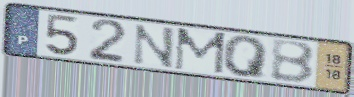2: (88, 17, 129, 65)
5: (45, 12, 79, 57)
B: (270, 39, 317, 85)
M: (172, 26, 229, 76)
N: (131, 23, 177, 70)
Q: (222, 35, 271, 80)
